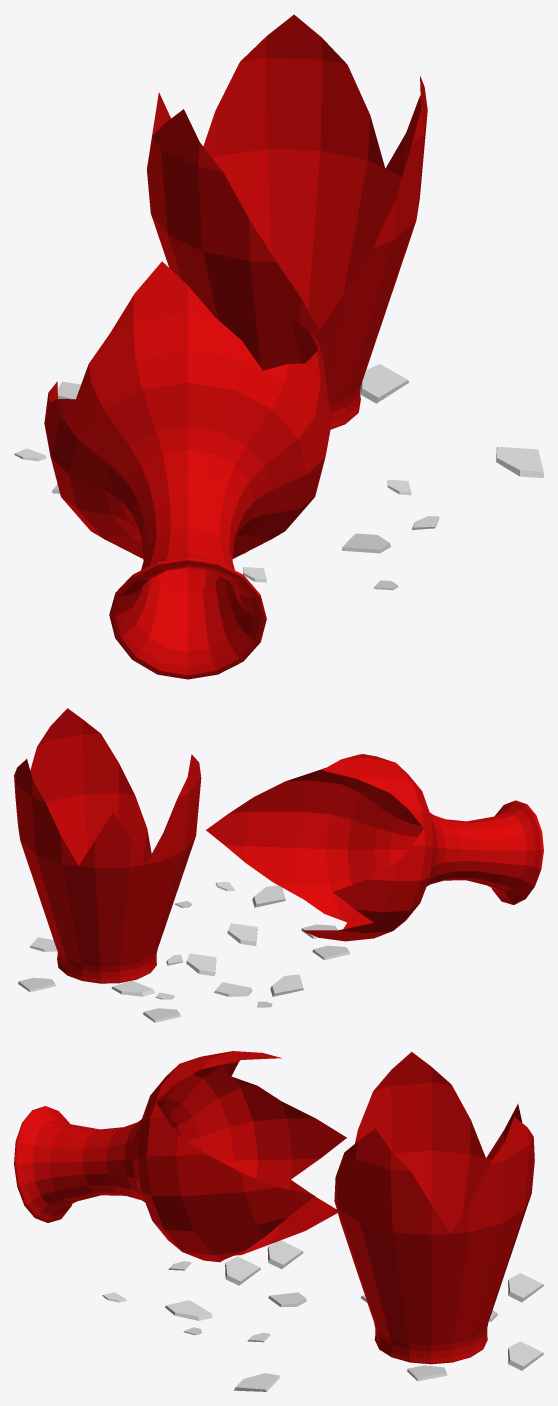
The model's file is Vasecassé_1.fbx.
3 views of the same model, one above another, from view 1: azimuth 30°, elevation 25°; view 2: azimuth 150°, elevation 25°; view 3: azimuth 270°, elevation 25° (orthographic). The views are drawn at different scales.
Parts seen in each view (by area): view 1: Object002; view 2: Object002; view 3: Object002.
Boxes of the visible parts, x1,y1,x2,y2 form: Object002: (14, 14, 543, 679); Object002: (14, 708, 543, 1022); Object002: (14, 1051, 543, 1391).
Size of the model in its own units: 0.6825 by 0.3976 by 0.7575.
